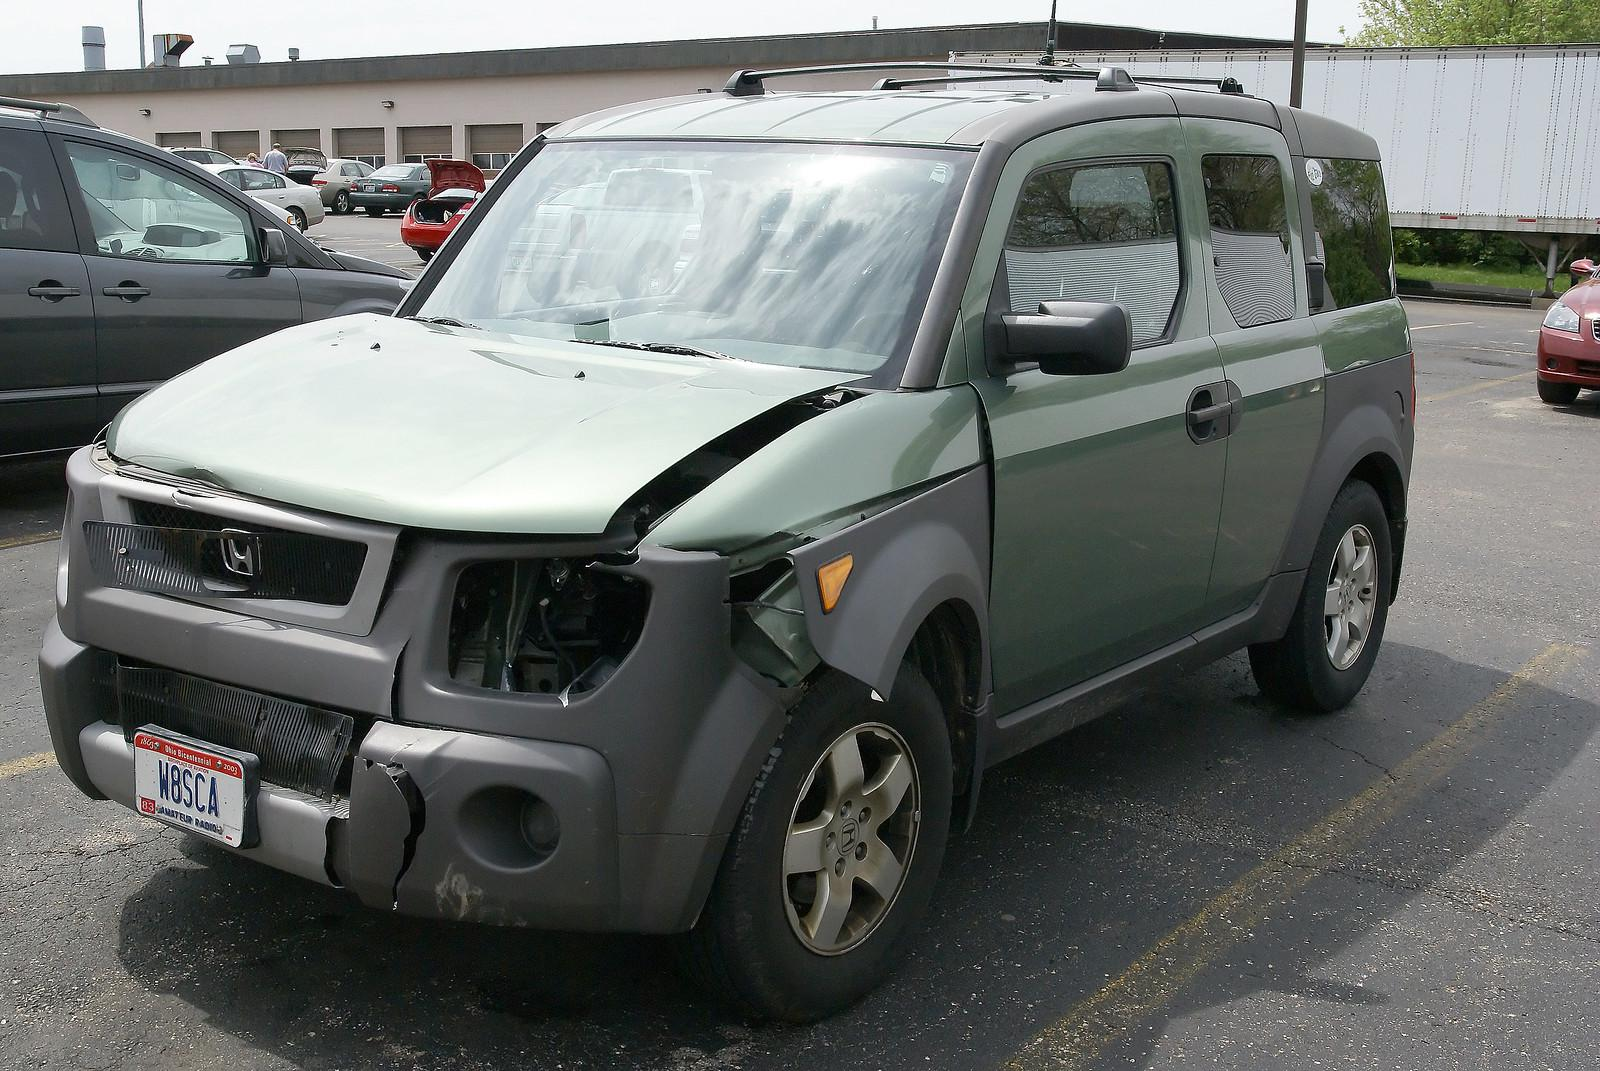bonnet-dent: (88, 293, 797, 519)
fender-dent: (718, 463, 1020, 742)
front-bumper-dent: (8, 634, 587, 886)
